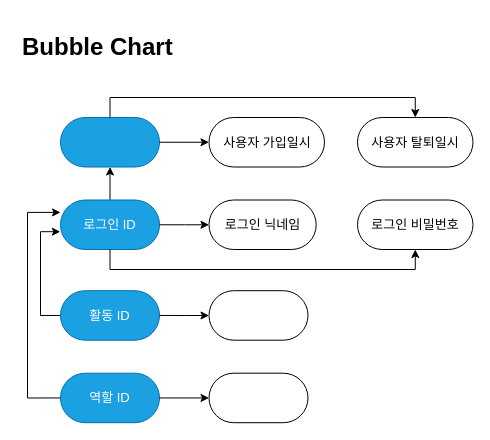
The diagram is 490 pixels wide and 440 high, and some of its shapes have lost their labels. Each missing label, with the centre of its shape:
사용자 ID: [110,141]
역할유형: [258,397]
활동유형: [258,315]
